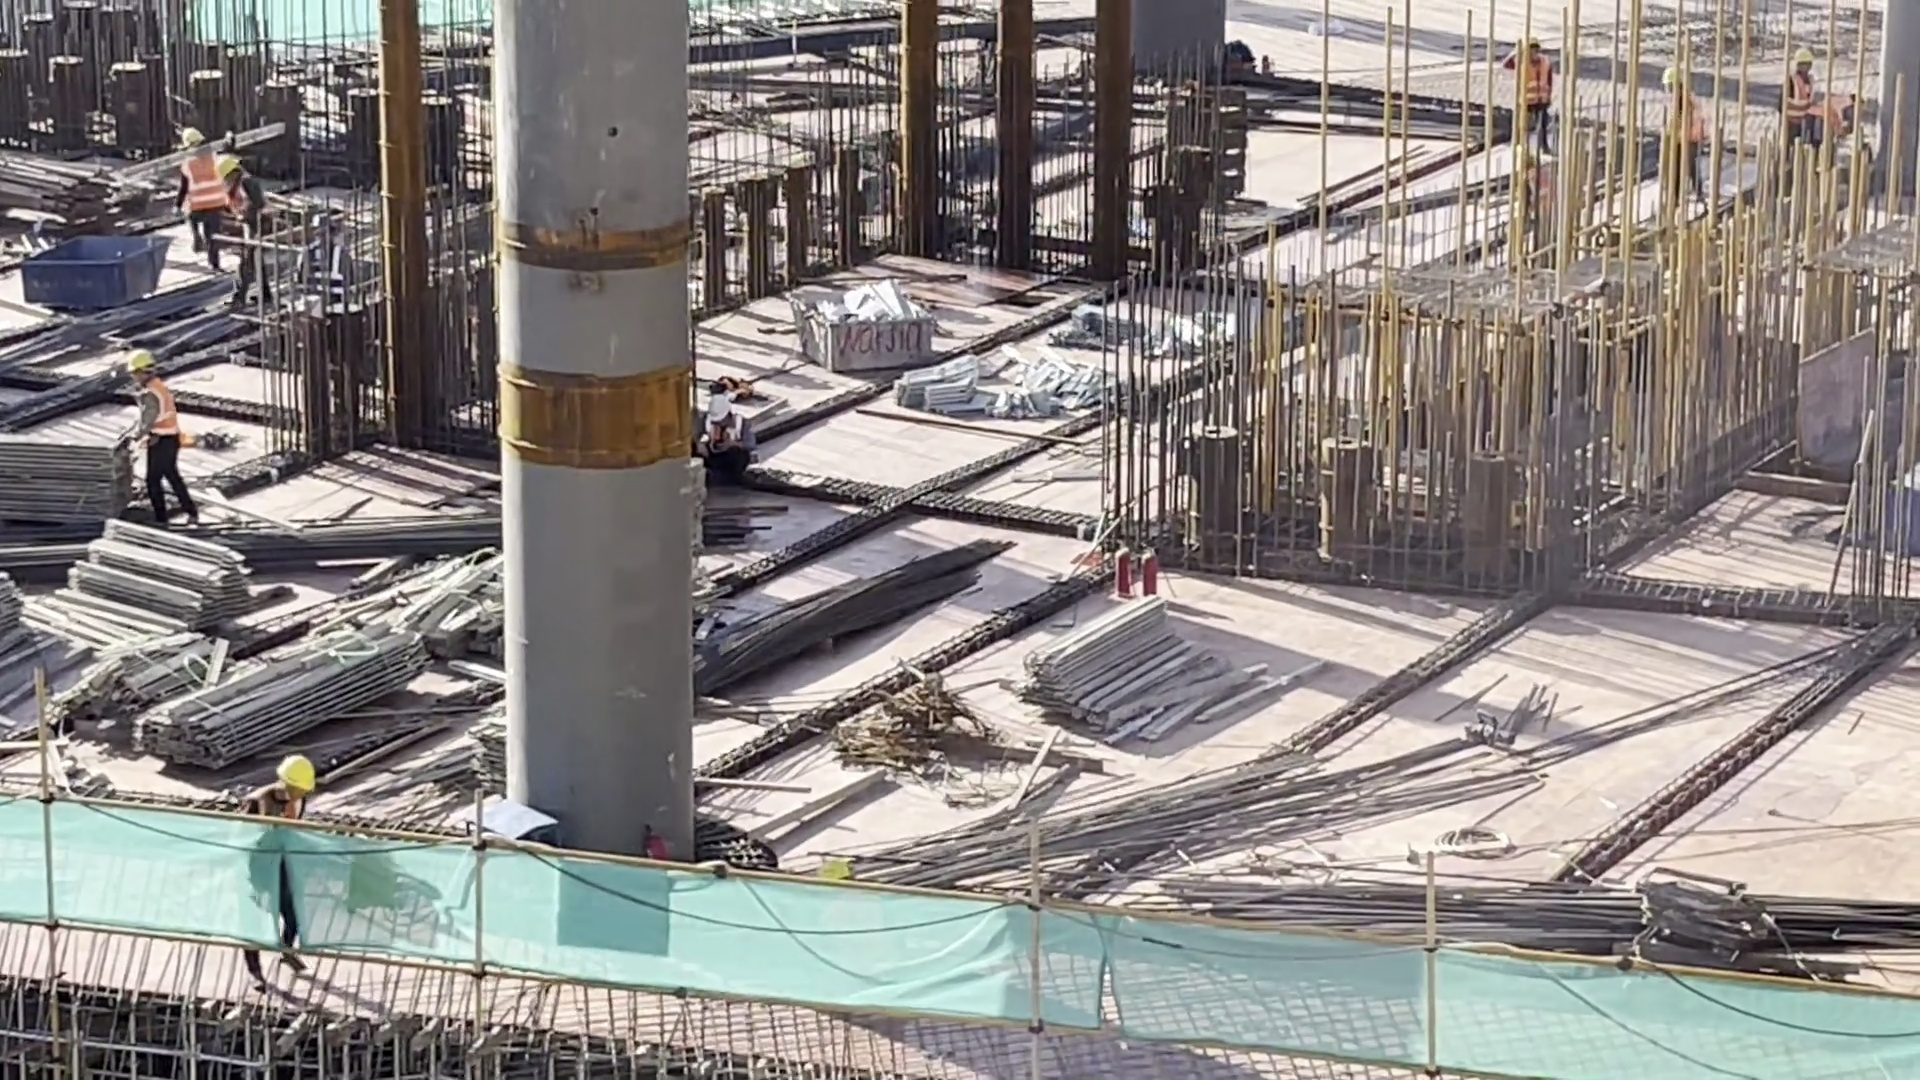helmet: (1784, 30, 1821, 72), (275, 748, 311, 785), (174, 113, 208, 149), (700, 386, 732, 422), (118, 343, 156, 371), (1517, 28, 1543, 46)
person: (99, 338, 204, 539), (163, 124, 254, 302), (233, 750, 341, 887), (681, 378, 767, 498), (1775, 38, 1843, 152), (1503, 20, 1558, 126)
vest: (171, 150, 226, 213), (133, 380, 170, 430), (1781, 68, 1817, 115), (1512, 60, 1548, 104)
